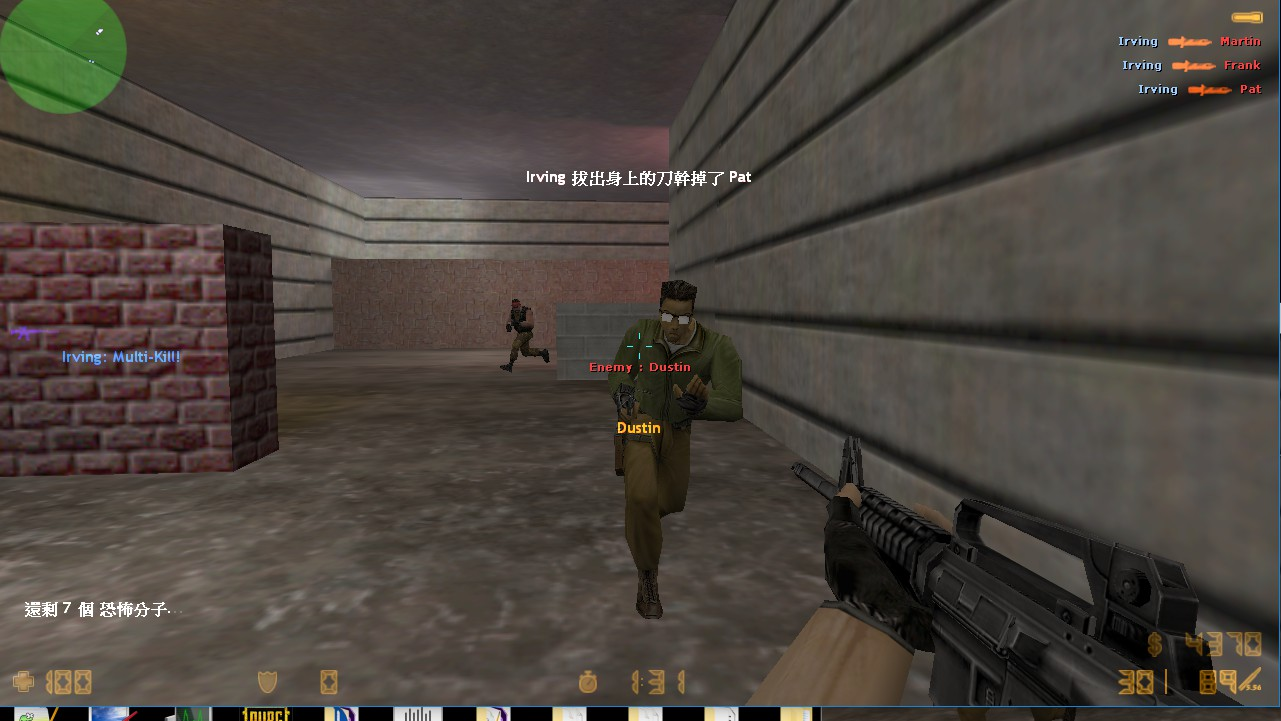person: (599, 285, 744, 618), (500, 295, 550, 378)
